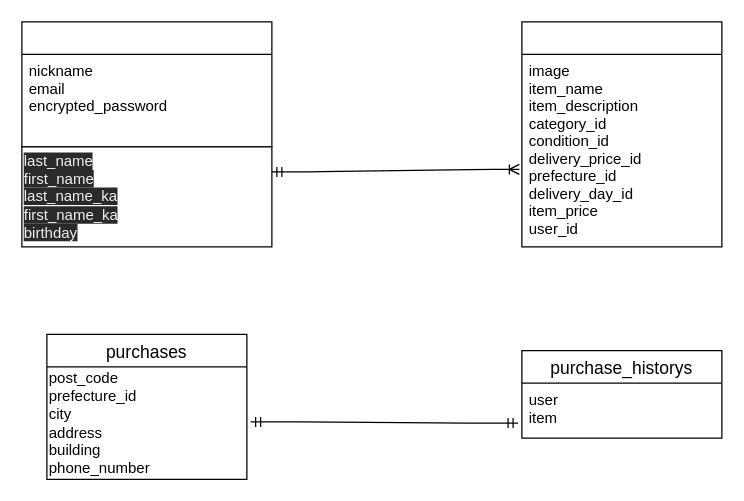
The diagram is 744 pixels wide and 501 high, and some of its shapes have lost their labels. The box of each missing label's shape, as (x1, y1, x2, y2) in pixels:
items: (521, 21, 722, 247)
users: (21, 21, 272, 147)
